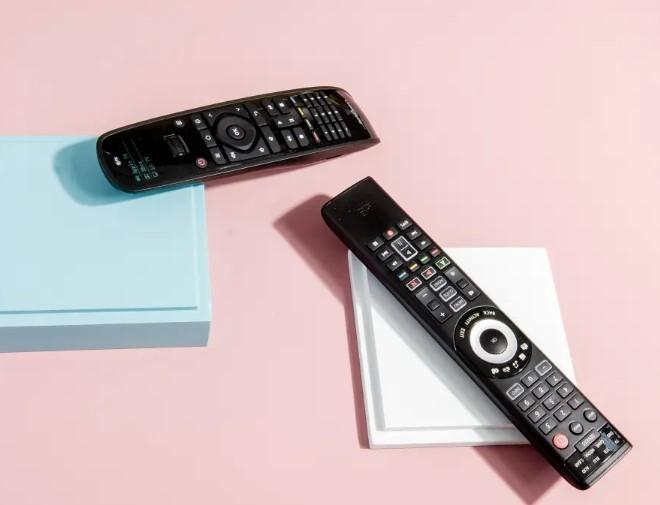Remote control: (320, 178, 632, 493), (94, 86, 381, 196)
